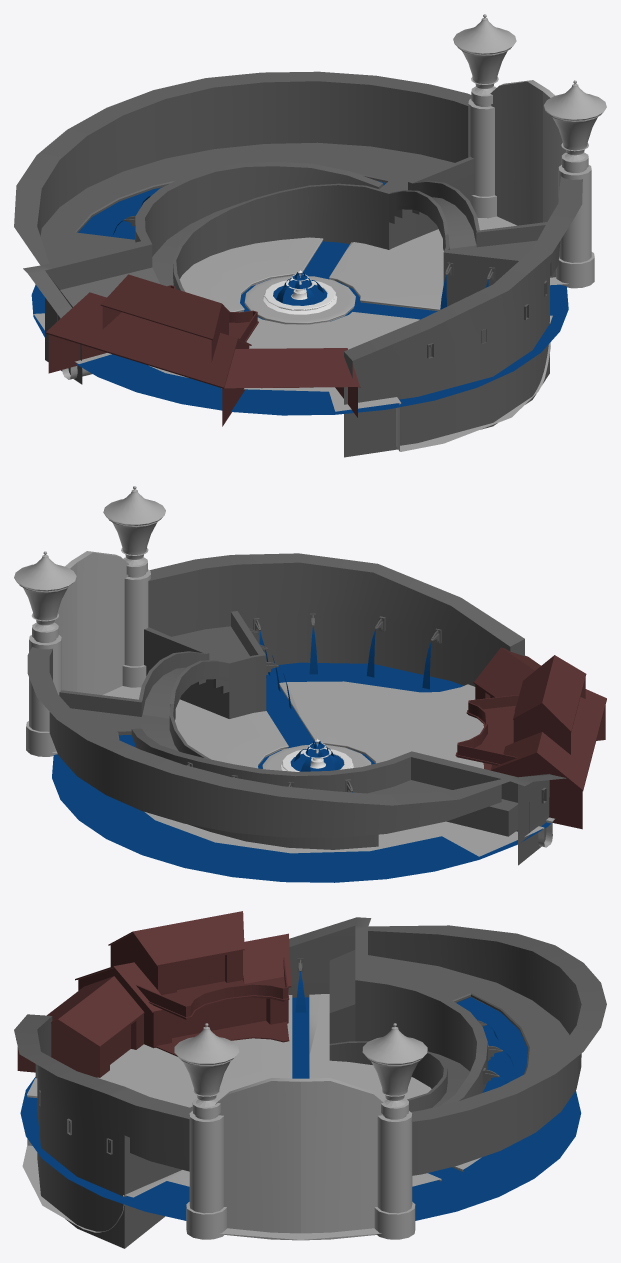
Rendered from Fountain.fbx.
3 renders of one model, top to bottom at view 1: azimuth 30°, elevation 25°; view 2: azimuth 150°, elevation 25°; view 3: azimuth 270°, elevation 25°, orthographic. The views are drawn at different scales.
Parts seen in each view (by area): view 1: Main_02, Platform, Ground, Towers, L1_Water, Section_01, Gates, Section_03, Section_02, Bridge, L2_Water, Fountain (+1 smaller); view 2: Main_02, Platform, Ground, L1_Water, Towers, Gates, Section_01, Section_02, Bridge, Balcony, Section_03, Streams (+1 smaller); view 3: Main_02, Gates, Platform, Towers, Ground, L1_Water, Section_02, Section_01, Section_03, Balcony, L2_Water, Porch.
Part boxes in pixels (x1,y1,x2,y2): Main_02: (14,71,474,384); Platform: (344,176,582,457); Ground: (34,216,568,451); Towers: (453,14,606,288); L1_Water: (31,241,568,415); Section_01: (45,292,251,426); Gates: (490,80,566,225); Section_03: (220,348,360,417); Section_02: (100,274,230,361); Bridge: (389,180,479,250); L2_Water: (78,181,386,239); Fountain: (263,270,337,314); Main_02: (27,647,566,865); Platform: (144,553,524,718); Ground: (52,681,554,856); L1_Water: (52,662,553,882); Towers: (14,486,165,756); Gates: (54,551,128,694); Section_01: (490,689,606,829); Section_02: (513,655,586,754); Bridge: (139,651,229,720); Balcony: (455,695,519,765); Section_03: (473,647,597,736); Streams: (257,626,431,792); Main_02: (288,917,606,1175); Gates: (215,1078,386,1240); Platform: (14,1014,192,1248); Towers: (174,1023,427,1239); Ground: (22,994,481,1239); L1_Water: (20,997,581,1220); Section_02: (108,911,244,995); Section_01: (75,933,291,1048); Section_03: (17,976,144,1077); Balcony: (136,957,289,1019); L2_Water: (456,997,528,1092); Porch: (155,1021,289,1056).
Size of the model in its own units: 3807 by 1863 by 3618.
